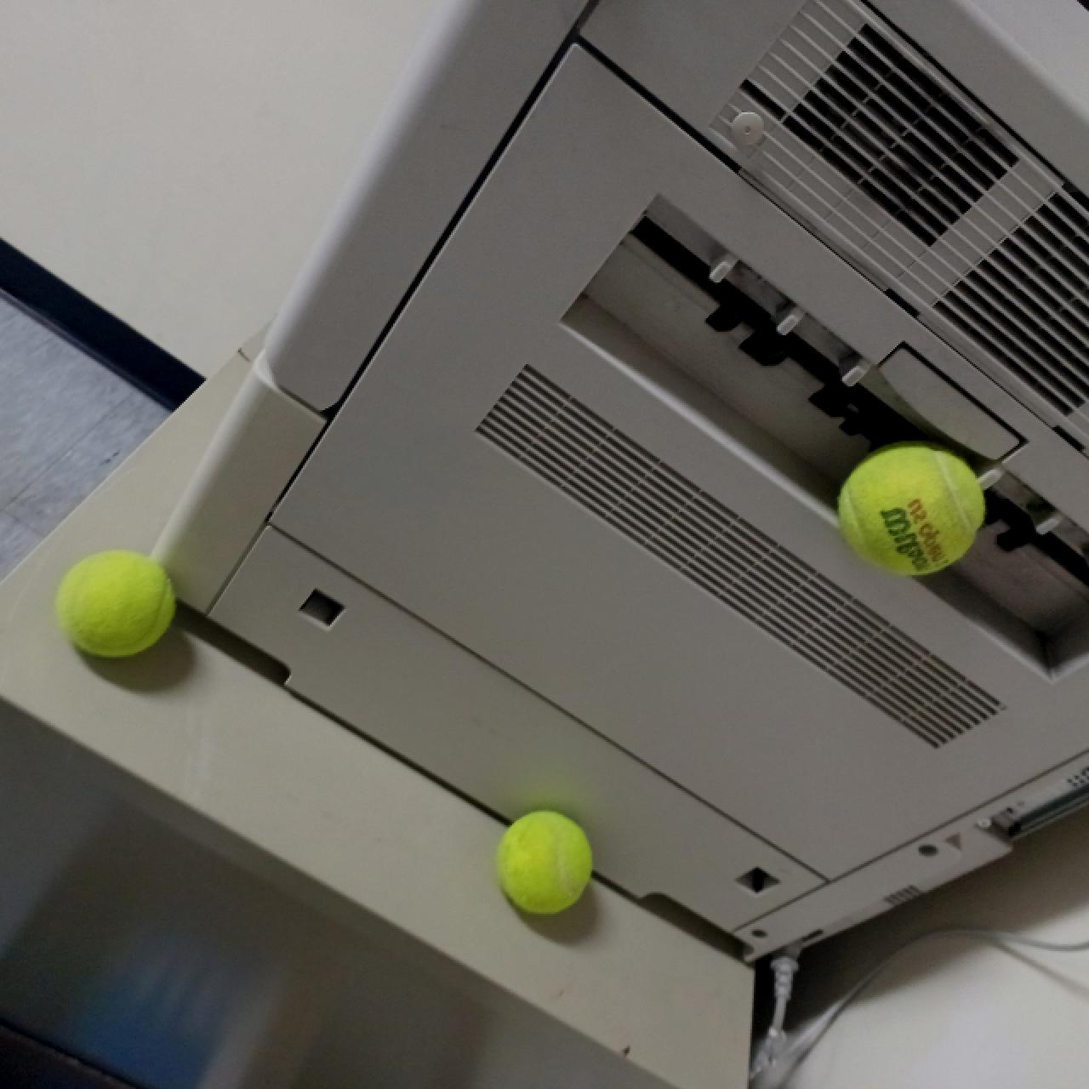tennis-ball: (831, 438, 986, 577), (59, 549, 180, 657), (493, 807, 594, 919)
